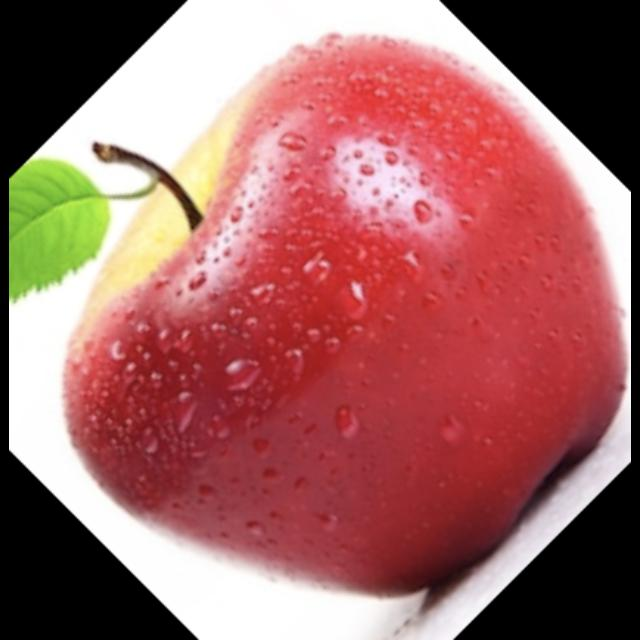Apel Segar: (52, 24, 630, 610)
